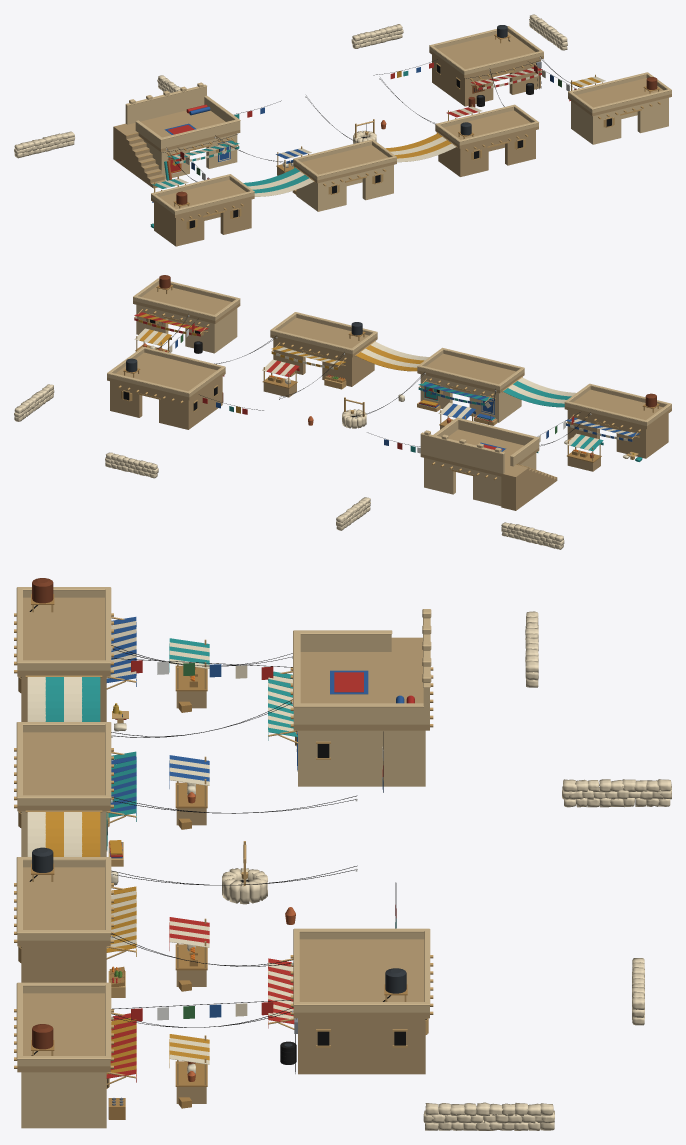
File: db-market.glb
3 renders of one model, top to bottom at view 1: azimuth 30°, elevation 25°; view 2: azimuth 150°, elevation 25°; view 3: azimuth 270°, elevation 25°, orthographic. The views are drawn at different scales.
Parts seen in each view (by area): view 1: db-market; view 2: db-market; view 3: db-market.
Part boxes in pixels (x1=…): db-market: x1=14, y1=14, x2=671, y2=246; db-market: x1=14, y1=275, x2=671, y2=549; db-market: x1=14, y1=578, x2=671, y2=1130.
Size of the model in its own units: 55.38 by 5.6 by 30.92.
